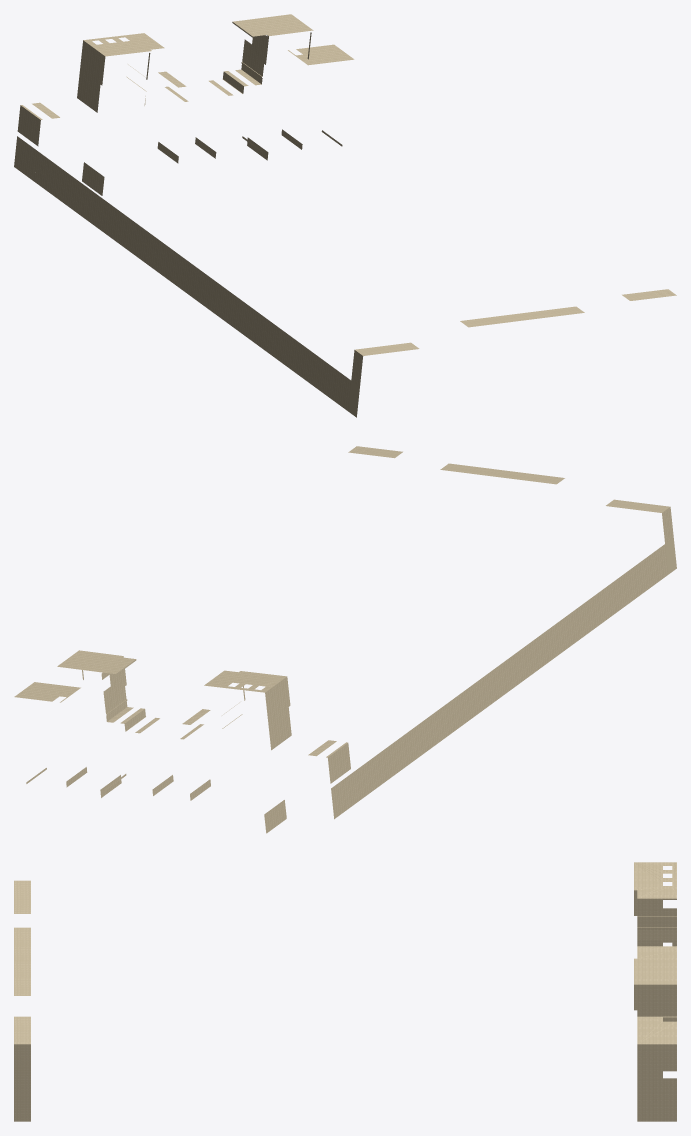
The model's file is data24.glb.
3 renders of one model, top to bottom at view 1: azimuth 30°, elevation 25°; view 2: azimuth 150°, elevation 25°; view 3: azimuth 270°, elevation 25°, orthographic. The views are drawn at different scales.
Visible parts, largest first — view 1: data24; view 2: data24; view 3: data24.
Part boxes in pixels (x1,y1,x2,y2): data24: [14, 14, 676, 417]; data24: [14, 446, 676, 833]; data24: [14, 862, 676, 1121].
Bounding box in the file's own units: 53.06 × 23.8 × 98.4.
1 material, 1 textured.
